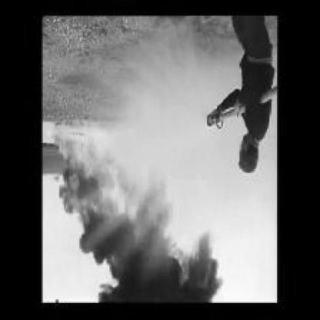Smoke: (74, 228, 224, 304)
